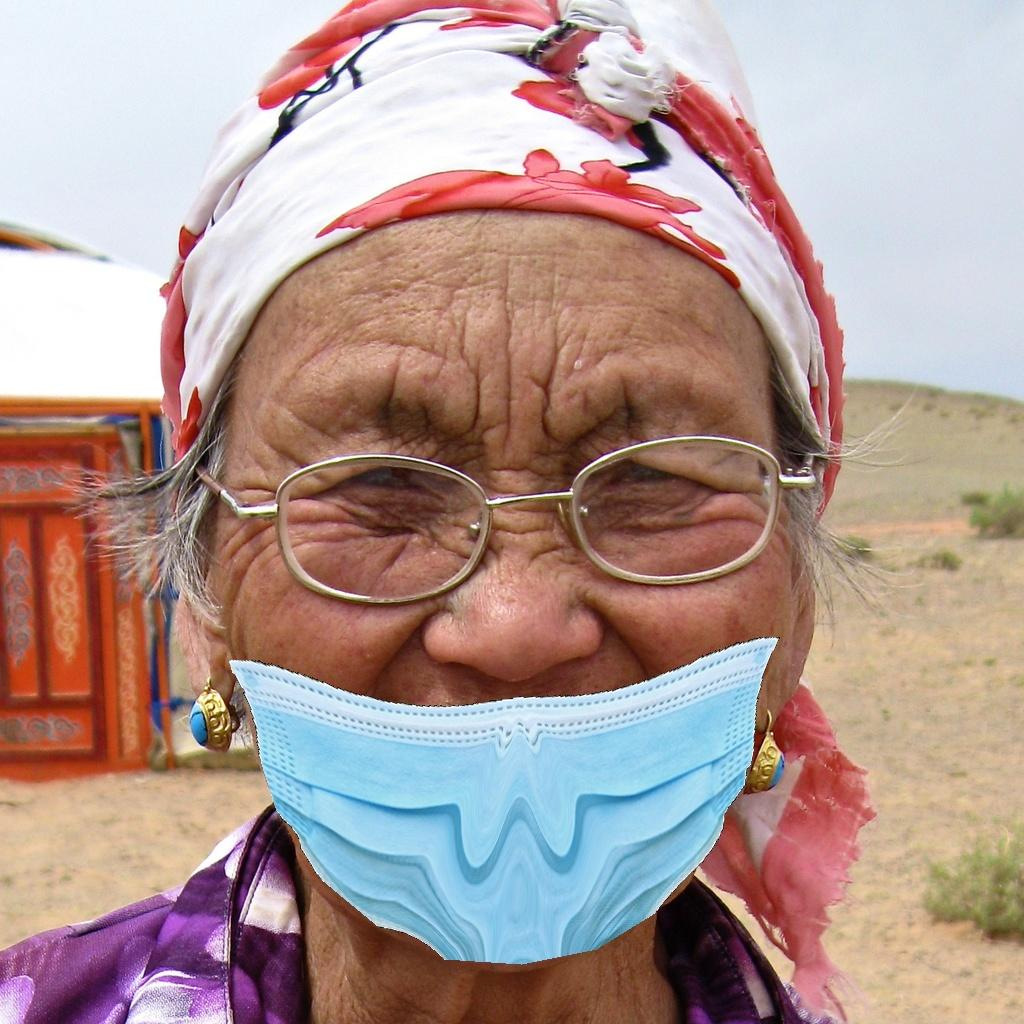Máscara Incorreta: (213, 318, 820, 952)
